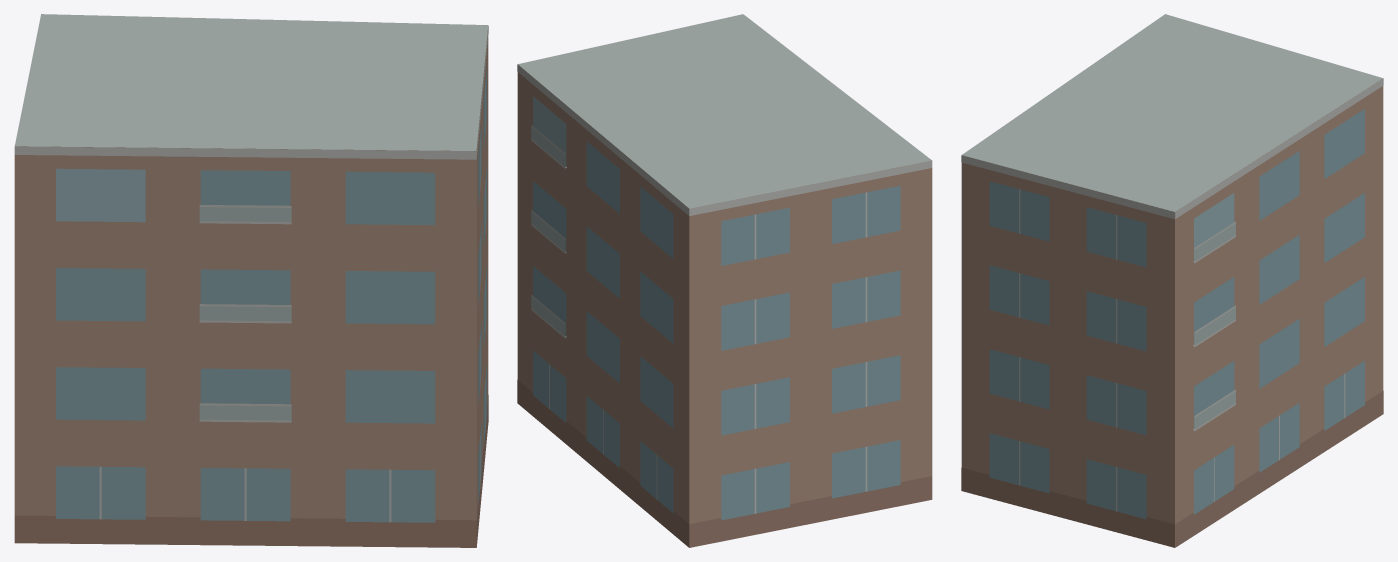
Rendered from survey-upis-32759949.glb.
3 views of the same model, side by side, from view 1: azimuth 30°, elevation 25°; view 2: azimuth 150°, elevation 25°; view 3: azimuth 270°, elevation 25° (orthographic). The views are drawn at different scales.
Parts seen in each view (by area): view 1: survey-upis-32759949.tmp; view 2: survey-upis-32759949.tmp; view 3: survey-upis-32759949.tmp.
Part boxes in pixels (box(x1,y1,x2,y2)): survey-upis-32759949.tmp: box(14, 14, 488, 547); survey-upis-32759949.tmp: box(517, 14, 932, 547); survey-upis-32759949.tmp: box(961, 14, 1383, 547).
Size of the model in its own units: 14.17 by 11.2 by 12.76.
